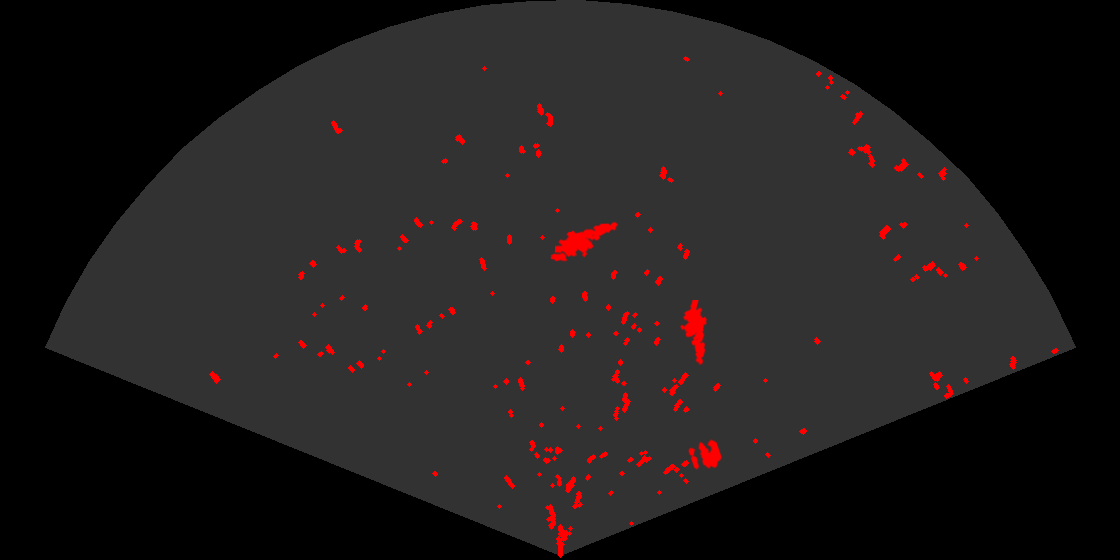AUV: (549, 247, 579, 263)
ball: (687, 438, 724, 471)
frogman: (555, 220, 619, 259), (678, 300, 709, 366)
